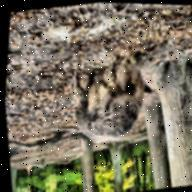boar: (38, 47, 157, 169)
